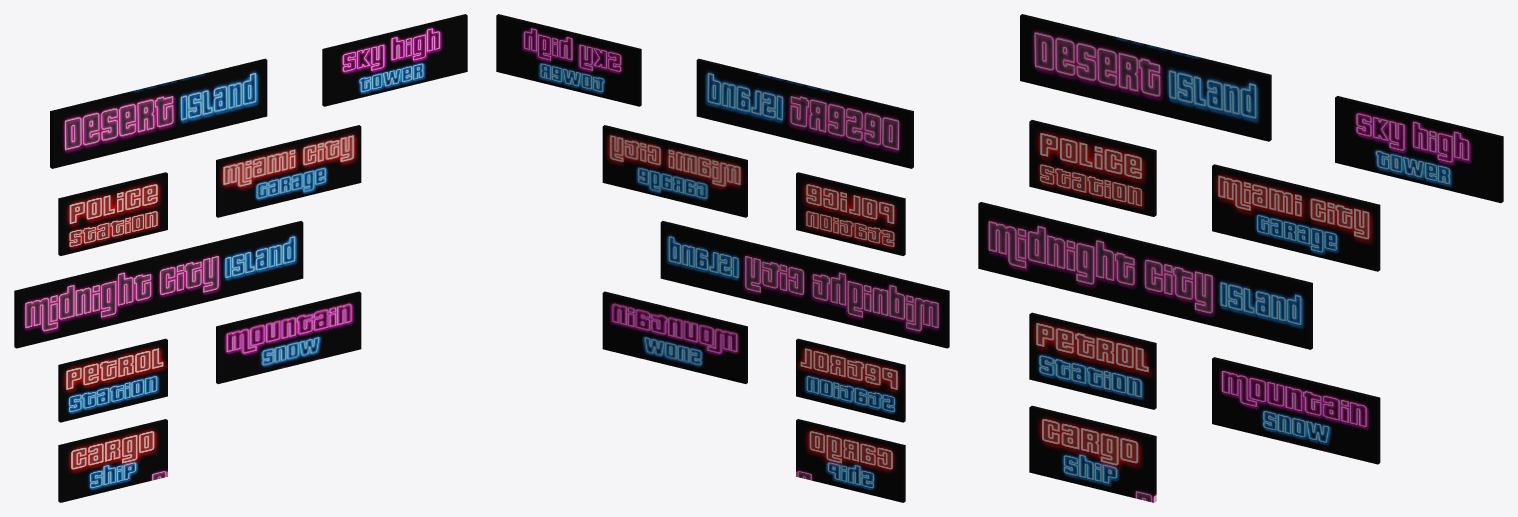
The model's file is boards_add.FBX.
The picture shows the model from 3 angles, left to right: view 1: azimuth 30°, elevation 25°; view 2: azimuth 150°, elevation 25°; view 3: azimuth 330°, elevation 25°; orthographic projection. The views are drawn at different scales.
Visible parts, largest first — view 1: mcityboard, desert, mountain, tower, garageboard, petrol, psboard, ship; view 2: mcityboard, desert, mountain, tower, garageboard, petrol, psboard, ship; view 3: mcityboard, desert, garageboard, mountain, tower, petrol, ship, psboard.
Part boxes in pixels (x1=…): mcityboard: x1=14, y1=221, x2=303, y2=348; desert: x1=50, y1=58, x2=267, y2=168; mountain: x1=216, y1=291, x2=361, y2=383; tower: x1=322, y1=14, x2=467, y2=106; garageboard: x1=216, y1=125, x2=361, y2=217; petrol: x1=58, y1=338, x2=167, y2=422; psboard: x1=58, y1=172, x2=167, y2=255; ship: x1=58, y1=419, x2=167, y2=502; mcityboard: x1=660, y1=221, x2=949, y2=348; desert: x1=696, y1=58, x2=913, y2=168; mountain: x1=602, y1=291, x2=747, y2=383; tower: x1=496, y1=14, x2=641, y2=106; garageboard: x1=602, y1=125, x2=747, y2=217; petrol: x1=796, y1=338, x2=905, y2=422; psboard: x1=796, y1=172, x2=905, y2=255; ship: x1=796, y1=419, x2=905, y2=502; mcityboard: x1=978, y1=202, x2=1312, y2=349; desert: x1=1020, y1=14, x2=1271, y2=141; garageboard: x1=1212, y1=164, x2=1380, y2=271; mountain: x1=1212, y1=357, x2=1380, y2=464; tower: x1=1335, y1=96, x2=1503, y2=202; petrol: x1=1029, y1=312, x2=1156, y2=409; ship: x1=1029, y1=405, x2=1156, y2=502; psboard: x1=1029, y1=120, x2=1156, y2=216.
Bounding box in the file's own units: 629 × 523 × 5.
Materials: 1 (1 with a texture image).
